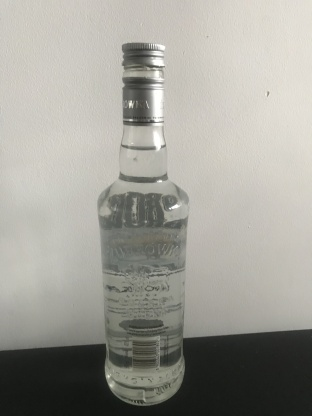nakretka: (120, 40, 166, 126)
